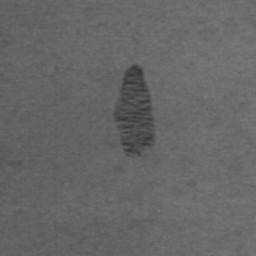Secondary rust skin: (113, 63, 156, 157)
